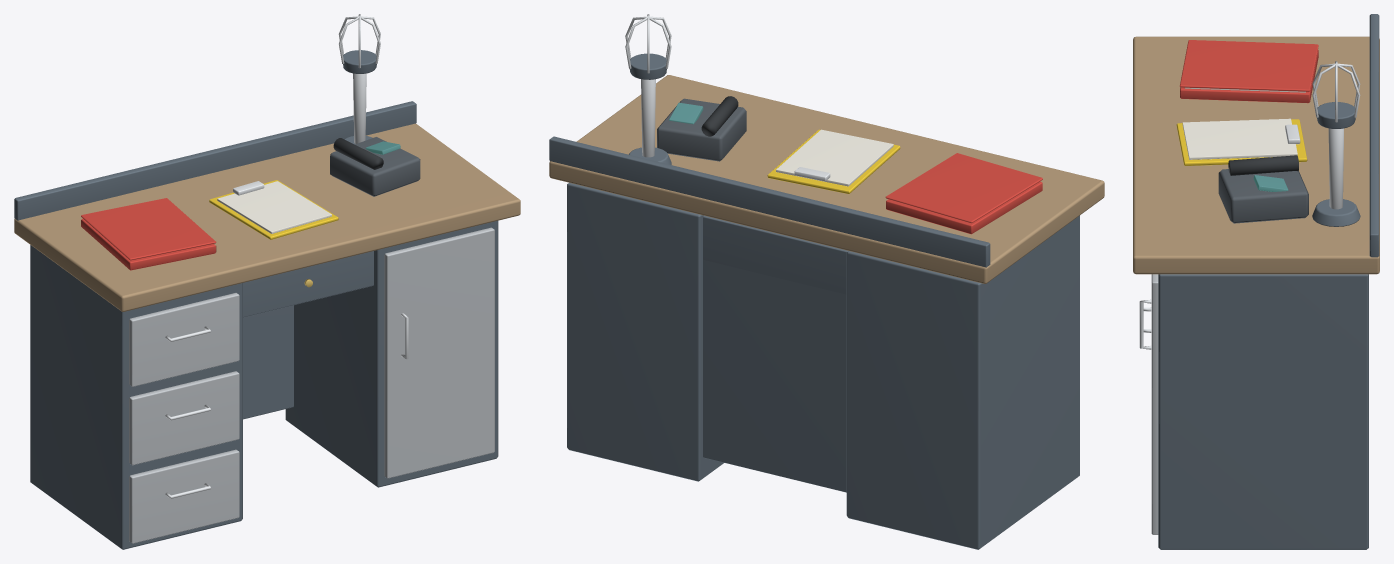
Rendered from permit-desk.glb.
3 renders of one model, left to right at view 1: azimuth 30°, elevation 25°; view 2: azimuth 150°, elevation 25°; view 3: azimuth 270°, elevation 25°, orthographic. The views are drawn at different scales.
Visible parts, largest first — view 1: PermitDeskAssembly; view 2: PermitDeskAssembly; view 3: PermitDeskAssembly.
Boxes of the visible parts, left/top/right/bottom form: PermitDeskAssembly: left=14, top=14, right=520, bottom=549; PermitDeskAssembly: left=549, top=14, right=1104, bottom=549; PermitDeskAssembly: left=1133, top=14, right=1379, bottom=549.
Bounding box in the file's own units: 1.44 × 1.38 × 0.68.
